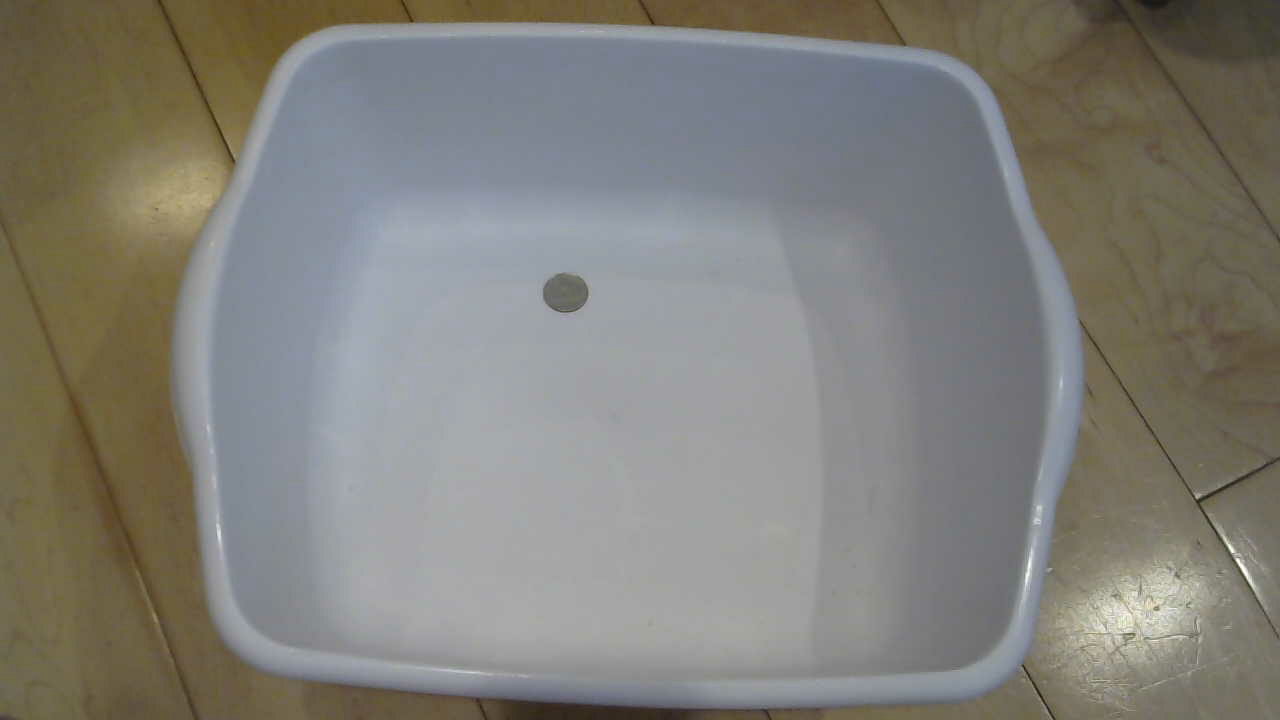coin: (536, 270, 600, 329)
